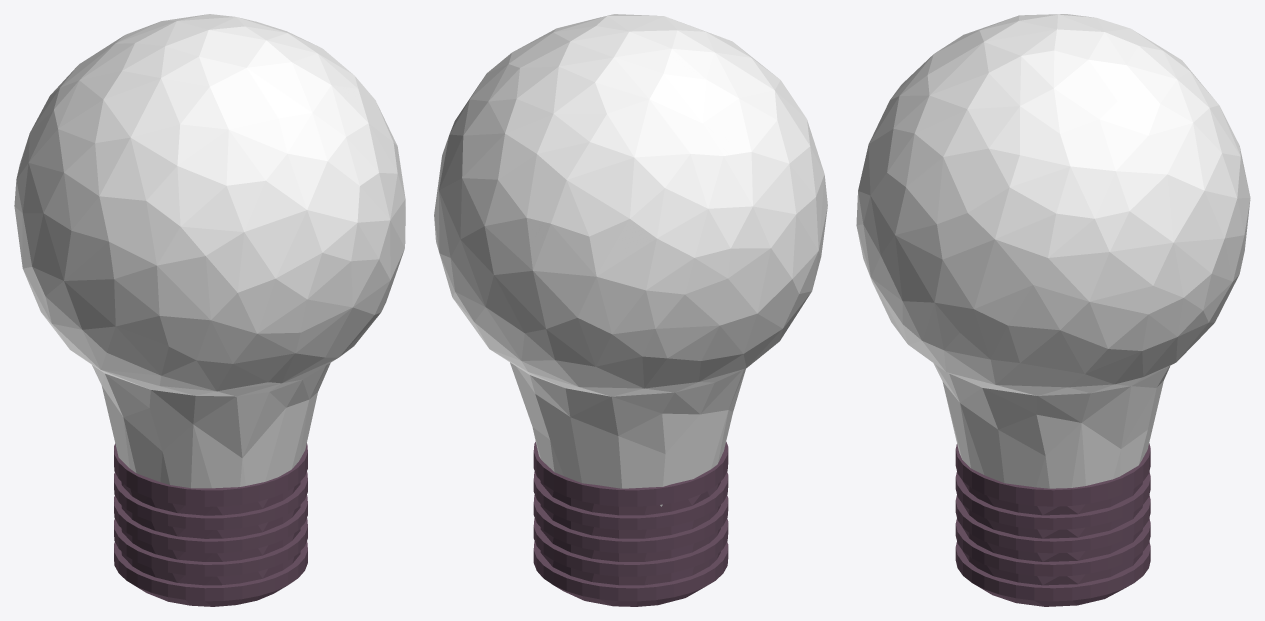
Rendered from lightbulb.fbx.
3 views of the same model, side by side, from view 1: azimuth 30°, elevation 25°; view 2: azimuth 150°, elevation 25°; view 3: azimuth 270°, elevation 25° (orthographic).
Parts seen in each view (by area): view 1: Icosphere, Cylinder; view 2: Icosphere, Cylinder; view 3: Icosphere, Cylinder.
Part boxes in pixels (x1,y1,x2,y2): Icosphere: (14, 14, 405, 488); Cylinder: (114, 443, 307, 606); Icosphere: (434, 14, 827, 506); Cylinder: (533, 442, 728, 606); Icosphere: (856, 14, 1250, 488); Cylinder: (955, 443, 1150, 606).
Bounding box in the file's own units: 185 × 290 × 185.
Materials: 1 (1 with a texture image).
